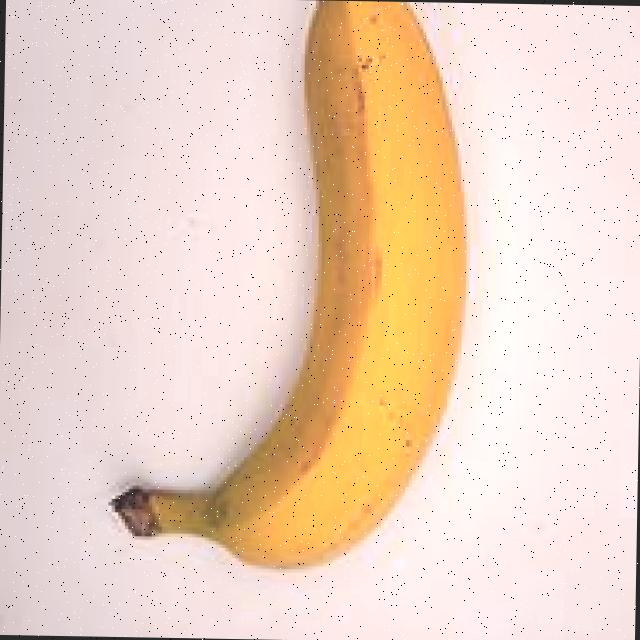Ripe: (73, 0, 491, 589)
